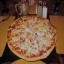pizza: (7, 16, 57, 60)
